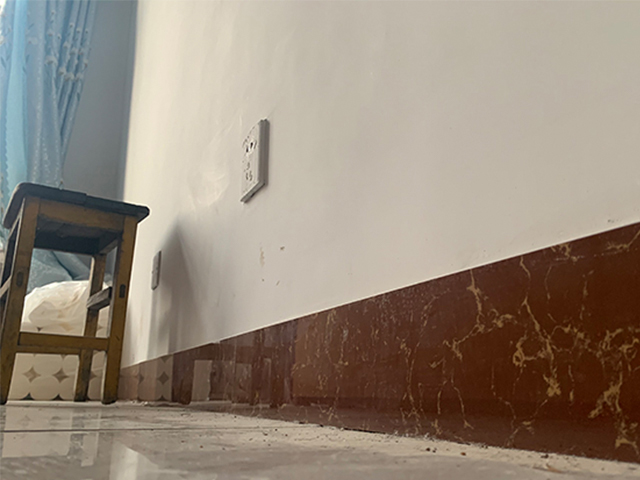curtain: (4, 1, 94, 284)
stool: (1, 182, 152, 407)
